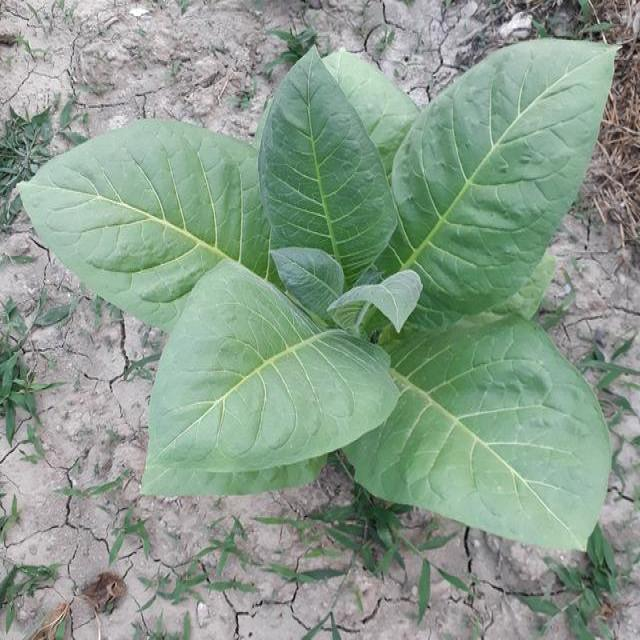crop: (18, 36, 620, 560)
